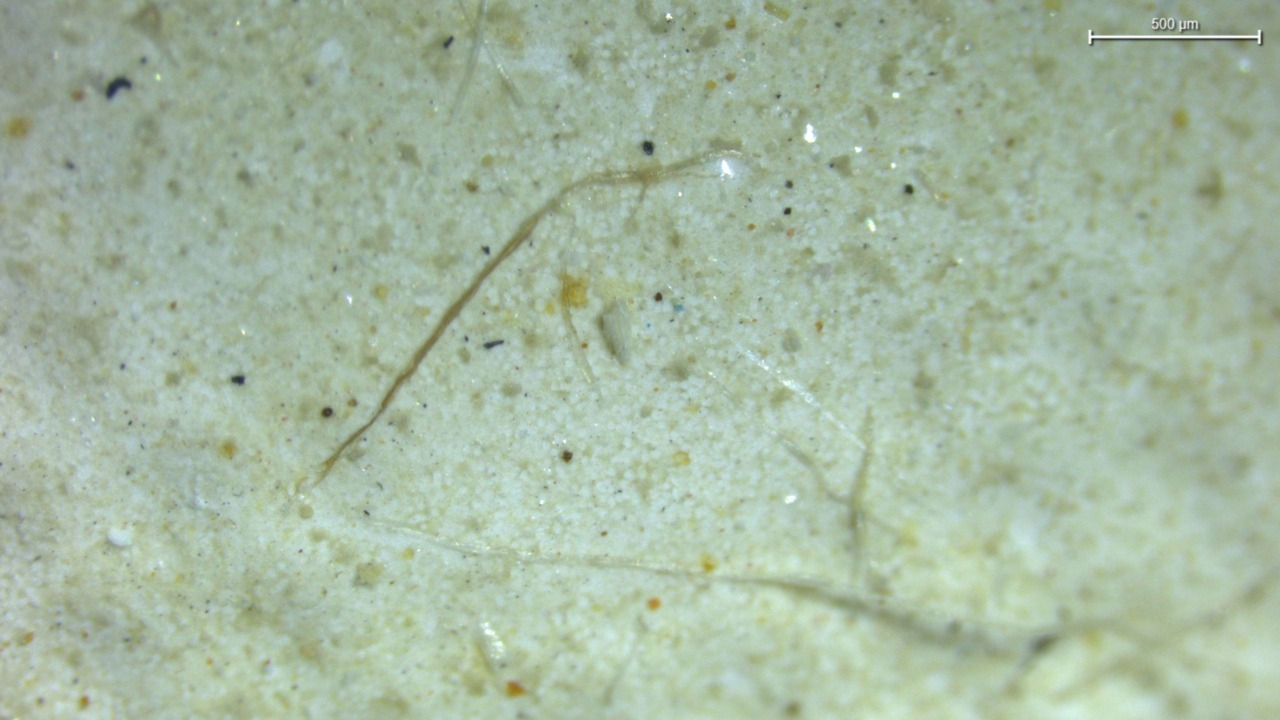microplastic_fragment: (598, 302, 630, 364)
